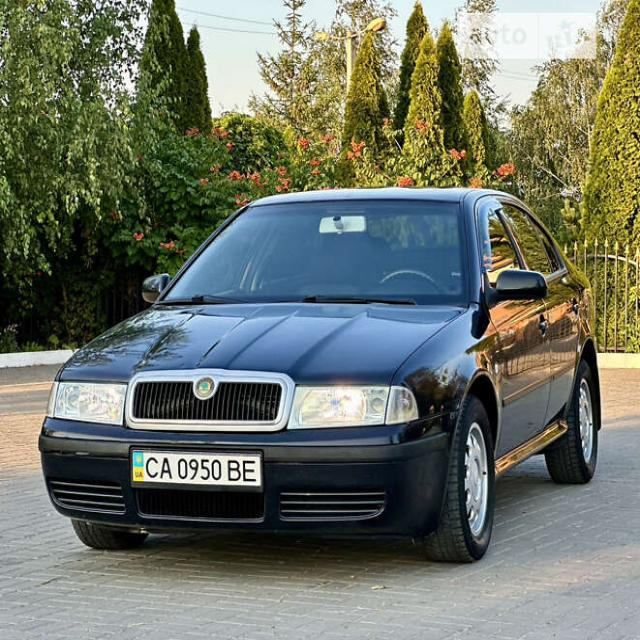plate: (132, 439, 268, 495)
